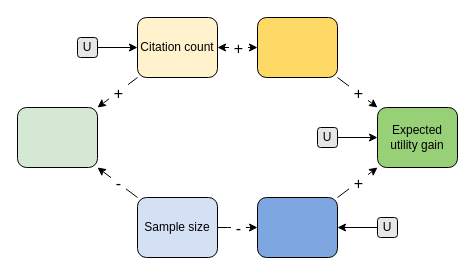
Some shapes in this 475 by 275 pixel diagram are drawn without their labels. The shapes that lost their labels are listed below. From the top down, each one's box as (x1, y1, x2, y2) in pixels, then its label:
(256, 16, 338, 78): Value
(16, 106, 98, 168): RV Cn
(256, 196, 338, 258): Uncertainty before replication
